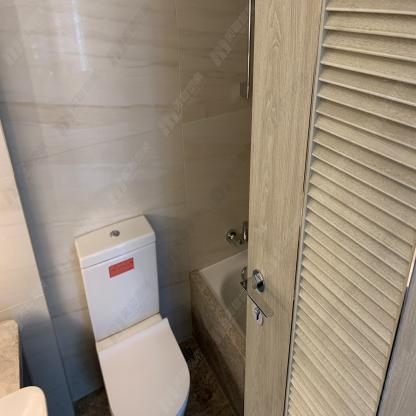Toilet: (73, 215, 194, 416)
